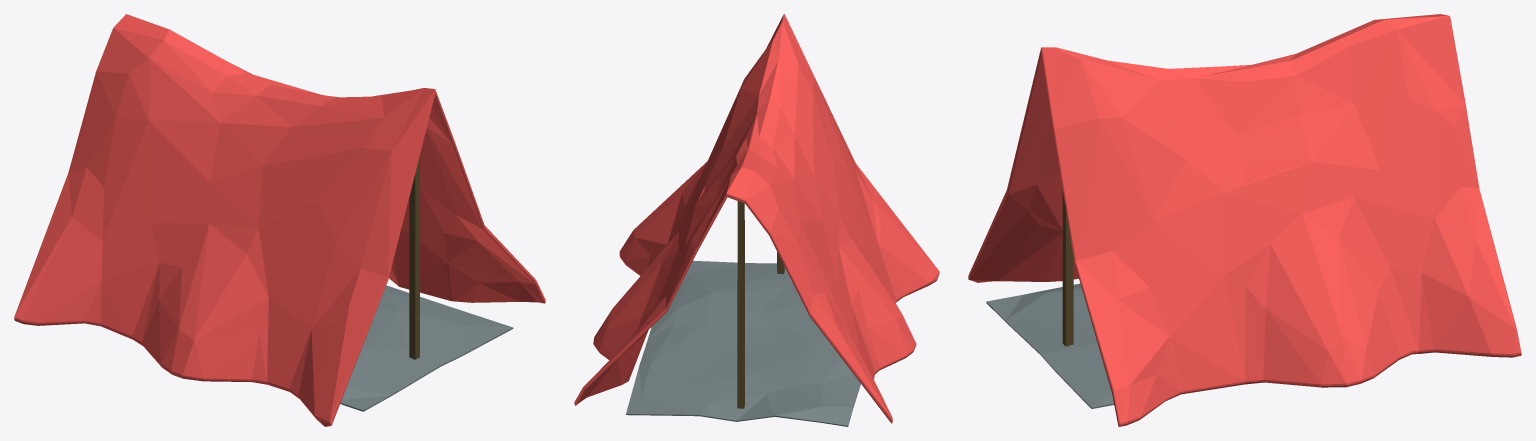
3 views of the same model, side by side, from view 1: azimuth 30°, elevation 25°; view 2: azimuth 150°, elevation 25°; view 3: azimuth 270°, elevation 25° (orthographic). The views are drawn at different scales.
Parts seen in each view (by area): view 1: Plane.001_Plane.001_Plane.001_Plane.001_camp_roof.001, Plane.001_Plane.001_Plane.001_Plane.001_camp_floor_cloth.001, Plane.001_Plane.001_Plane.001_Plane.001_camp_wood_stick.001; view 2: Plane.001_Plane.001_Plane.001_Plane.001_camp_roof.001, Plane.001_Plane.001_Plane.001_Plane.001_camp_floor_cloth.001, Plane.001_Plane.001_Plane.001_Plane.001_camp_wood_stick.001; view 3: Plane.001_Plane.001_Plane.001_Plane.001_camp_roof.001, Plane.001_Plane.001_Plane.001_Plane.001_camp_floor_cloth.001, Plane.001_Plane.001_Plane.001_Plane.001_camp_wood_stick.001.
Boxes of the visible parts, x1,y1,x2,y2 form: Plane.001_Plane.001_Plane.001_Plane.001_camp_roof.001: (14,14,545,426); Plane.001_Plane.001_Plane.001_Plane.001_camp_floor_cloth.001: (340,285,513,411); Plane.001_Plane.001_Plane.001_Plane.001_camp_wood_stick.001: (409,156,419,359); Plane.001_Plane.001_Plane.001_Plane.001_camp_roof.001: (574,14,939,423); Plane.001_Plane.001_Plane.001_Plane.001_camp_floor_cloth.001: (626,260,860,426); Plane.001_Plane.001_Plane.001_Plane.001_camp_wood_stick.001: (737,201,784,408); Plane.001_Plane.001_Plane.001_Plane.001_camp_roof.001: (968,14,1521,426); Plane.001_Plane.001_Plane.001_Plane.001_camp_floor_cloth.001: (986,283,1114,408); Plane.001_Plane.001_Plane.001_Plane.001_camp_wood_stick.001: (1062,190,1073,346).
Bounding box in the file's own units: 2.83 × 1.83 × 2.97.
